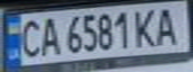1: (112, 8, 133, 50)
5: (78, 11, 100, 53)
6: (60, 11, 84, 54)
8: (96, 10, 115, 52)
A: (151, 3, 184, 47), (36, 15, 60, 56)
C: (15, 16, 45, 60)
K: (130, 6, 160, 48)
